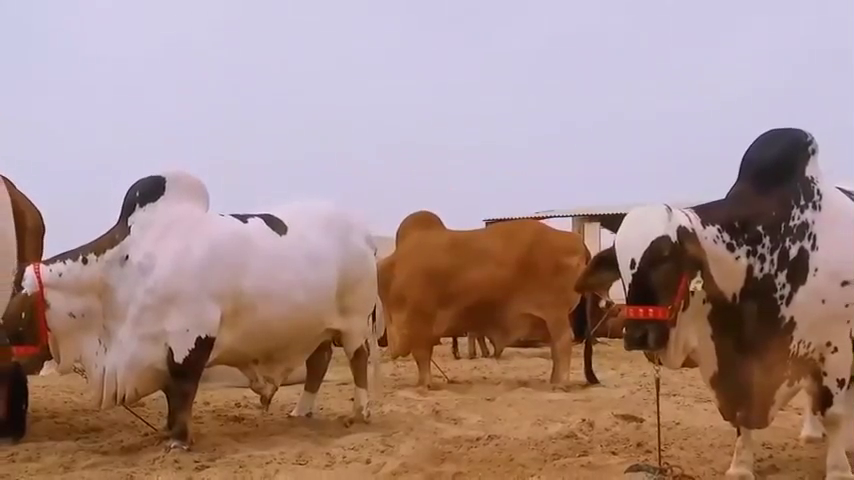bo: (15, 160, 382, 464), (574, 116, 854, 475), (364, 198, 609, 394)
